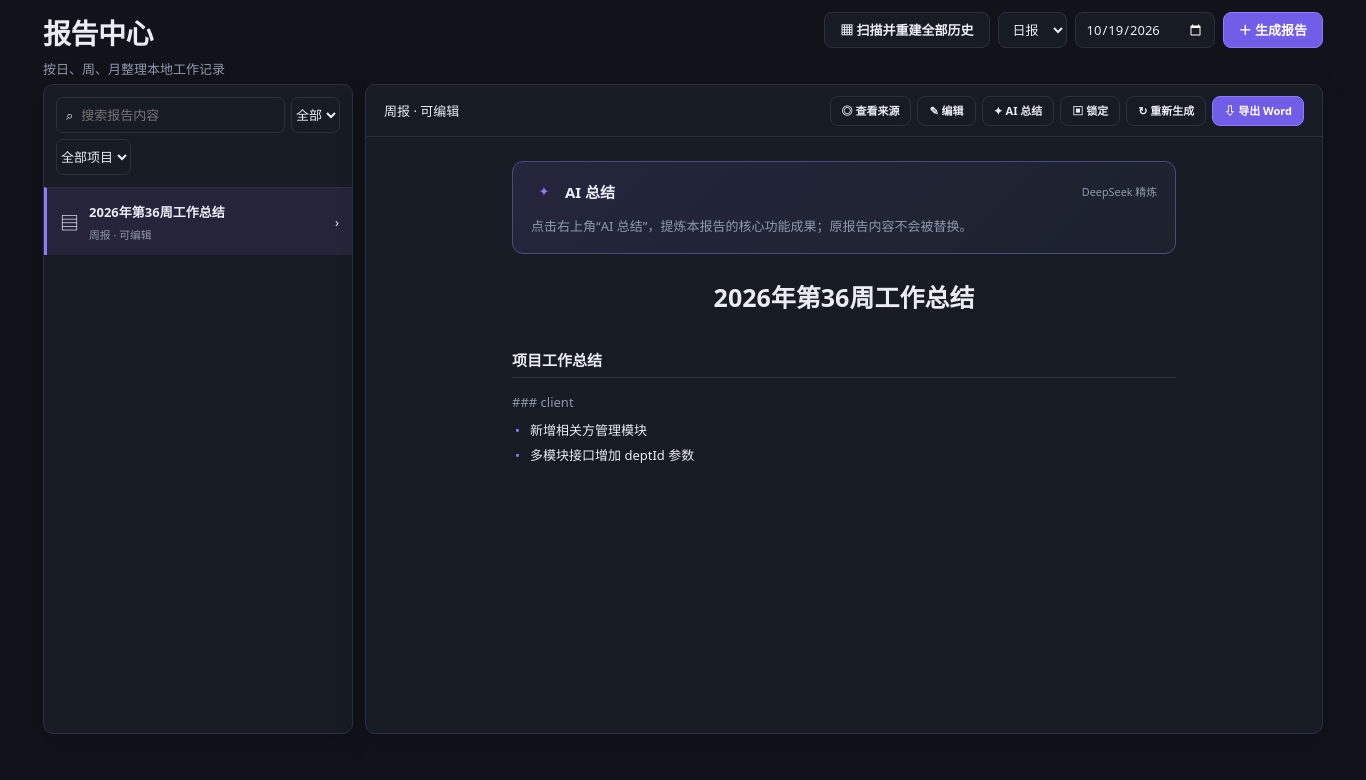
报告 AI 总结 › 把 DeepSeek 总结展示在独立模块中，并保留原报告正文
Click the button "✦ AI 总结": (1018, 110) [982,96,1054,126]
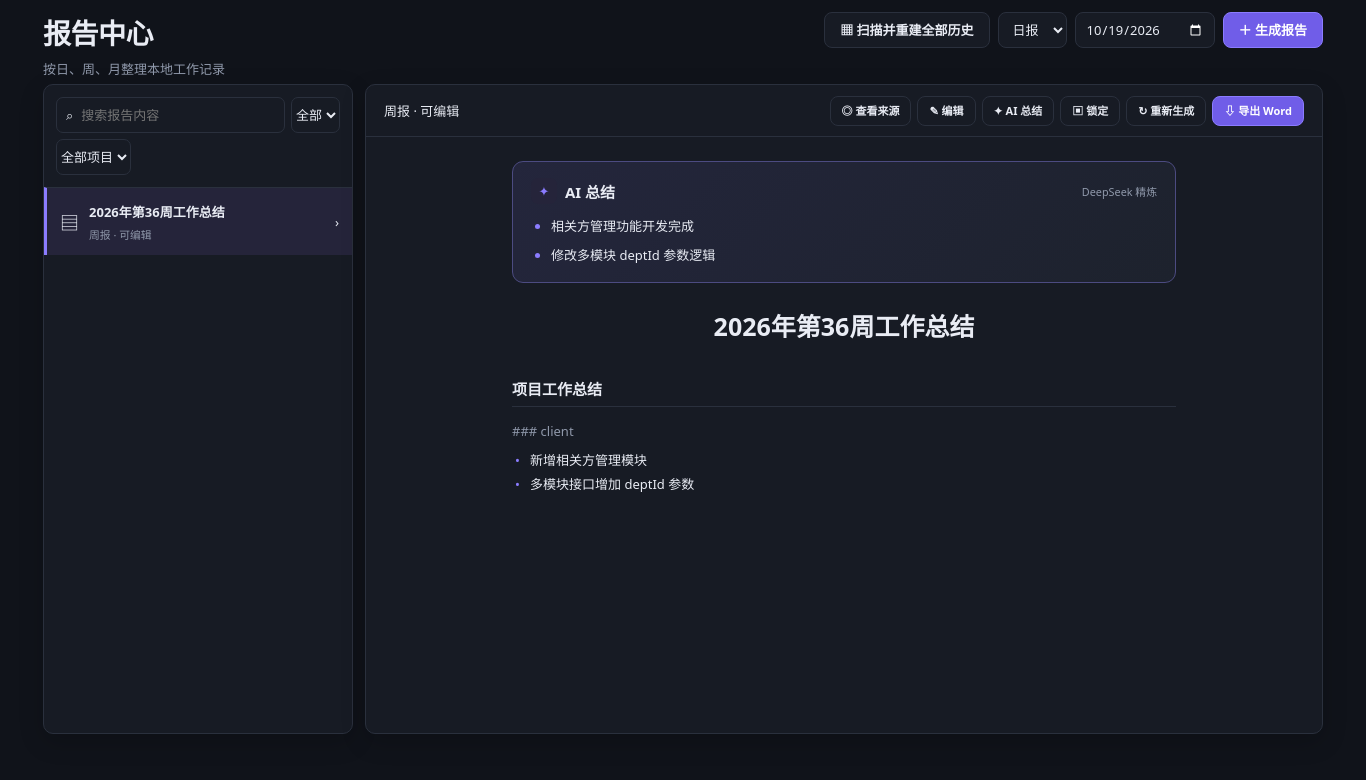
Expected: the text "新增相关方管理模块" is shown, [530,451,647,469]
Result: the element with class "report-ai-summary" shows "相关方管理功能开发完成" at [551,217,694,235]
Result: the element with class "report-ai-summary" shows "修改多模块 deptId 参数逻辑" at [551,246,715,264]
